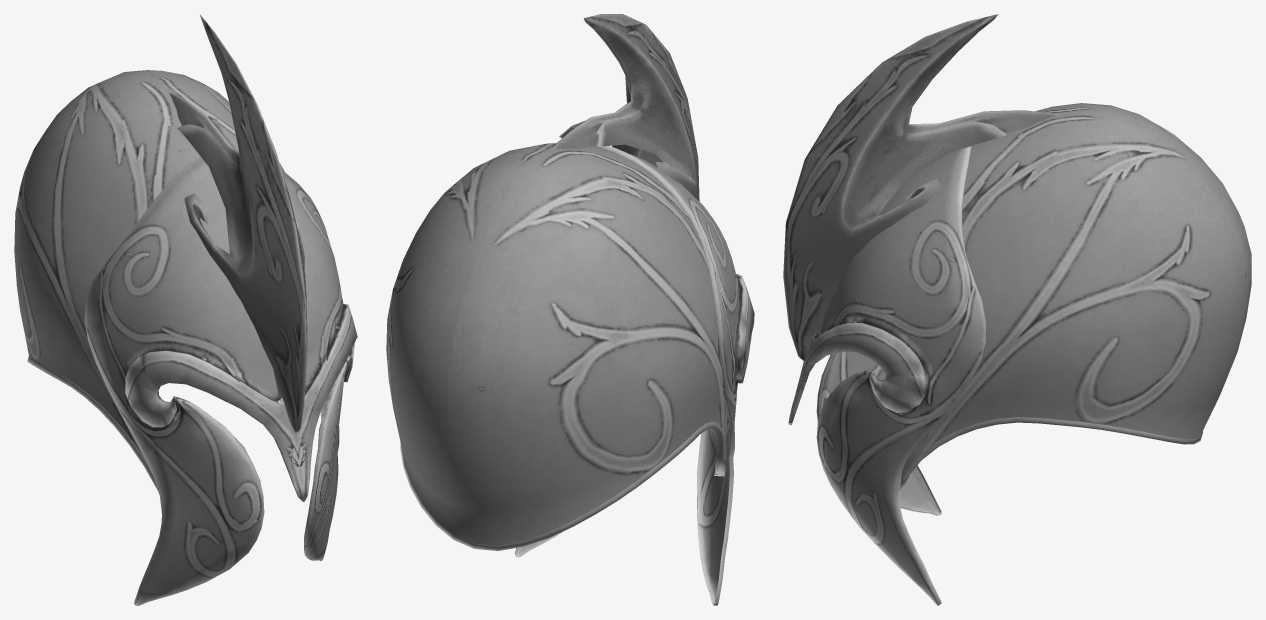
The model's file is rivendell_helmet_cavalry_tier1_silver.fbx.
3 views of the same model, side by side, from view 1: azimuth 30°, elevation 25°; view 2: azimuth 150°, elevation 25°; view 3: azimuth 270°, elevation 25° (orthographic). The views are drawn at different scales.
Parts seen in each view (by area): view 1: rivendell_helmet_cavalry_tier1_silver.1, rivendell_helmet_cavalry_tier1_silver.0; view 2: rivendell_helmet_cavalry_tier1_silver.1, rivendell_helmet_cavalry_tier1_silver.0; view 3: rivendell_helmet_cavalry_tier1_silver.1, rivendell_helmet_cavalry_tier1_silver.0.
Part boxes in pixels (x1,y1,x2,y2): rivendell_helmet_cavalry_tier1_silver.1: (14, 70, 357, 605); rivendell_helmet_cavalry_tier1_silver.0: (169, 15, 307, 433); rivendell_helmet_cavalry_tier1_silver.1: (386, 143, 754, 605); rivendell_helmet_cavalry_tier1_silver.0: (550, 14, 699, 201); rivendell_helmet_cavalry_tier1_silver.1: (788, 103, 1251, 605); rivendell_helmet_cavalry_tier1_silver.0: (783, 14, 1060, 361).
Bounding box in the file's own units: 0.1912 × 0.3065 × 0.3947.
2 materials, 2 textured.
